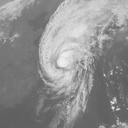cyclone: (38, 36, 93, 91)
